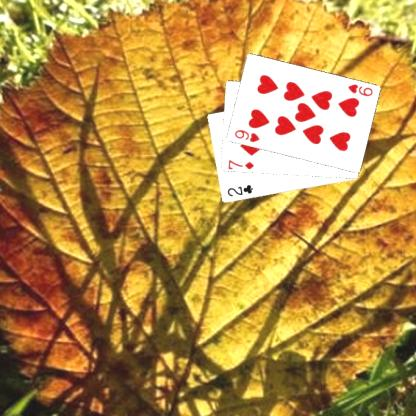2C: (224, 182, 254, 198)
7D: (225, 158, 255, 170)
9H: (345, 81, 374, 98), (232, 127, 260, 144)
